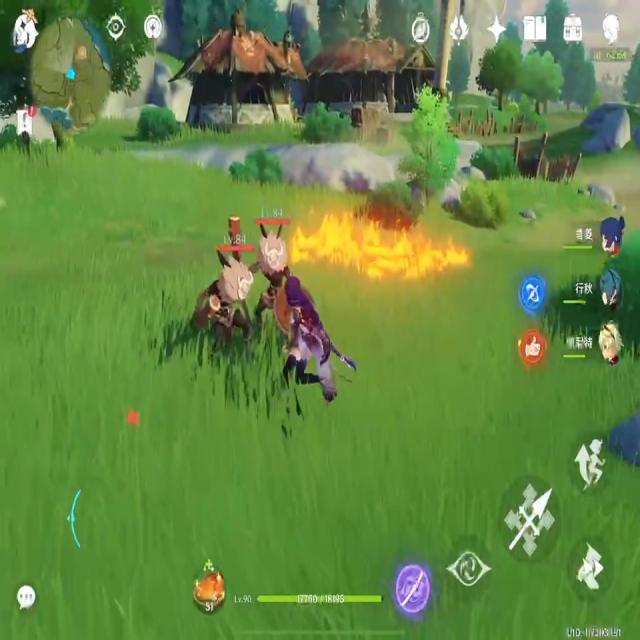genshin-hilichurls: (208, 216, 253, 359), (258, 206, 292, 331)
